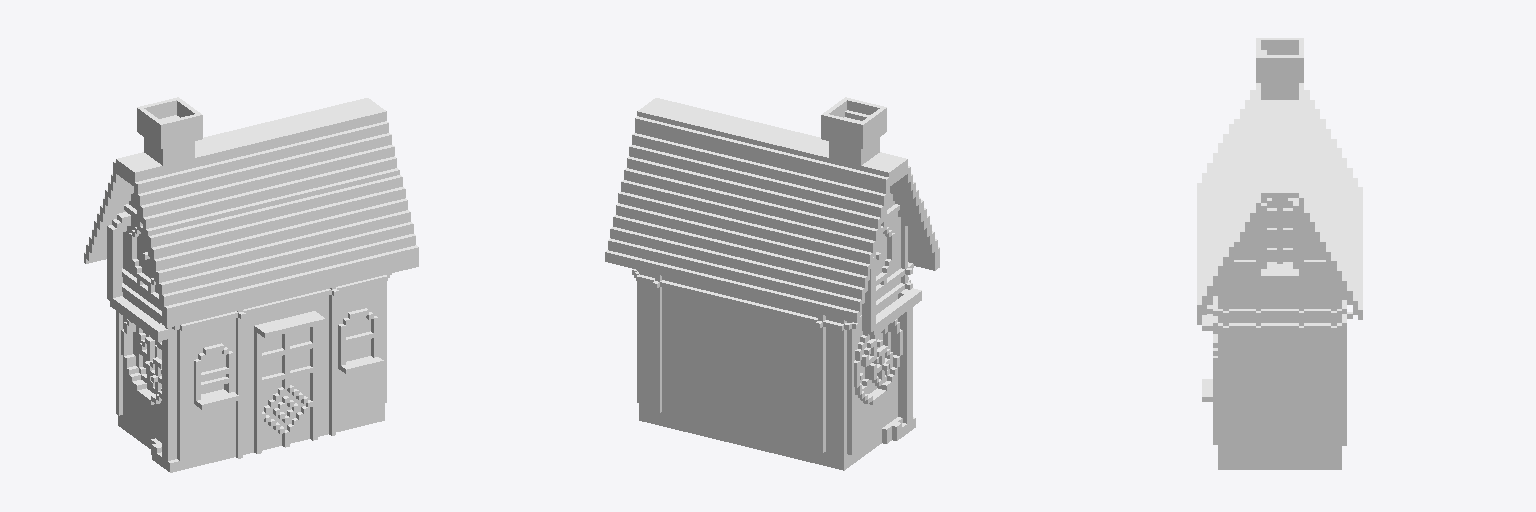
Rendered from zip.obj.
3 renders of one model, left to right at view 1: azimuth 30°, elevation 25°; view 2: azimuth 150°, elevation 25°; view 3: azimuth 270°, elevation 25°, orthographic.
Visible parts, largest first — view 1: zip; view 2: zip; view 3: zip.
Boxes of the visible parts, <box> form: zip: <box>84,97,418,472</box>; zip: <box>605,97,939,470</box>; zip: <box>1197,38,1362,469</box>.
Bounding box in the file's own units: 56 × 68 × 31.